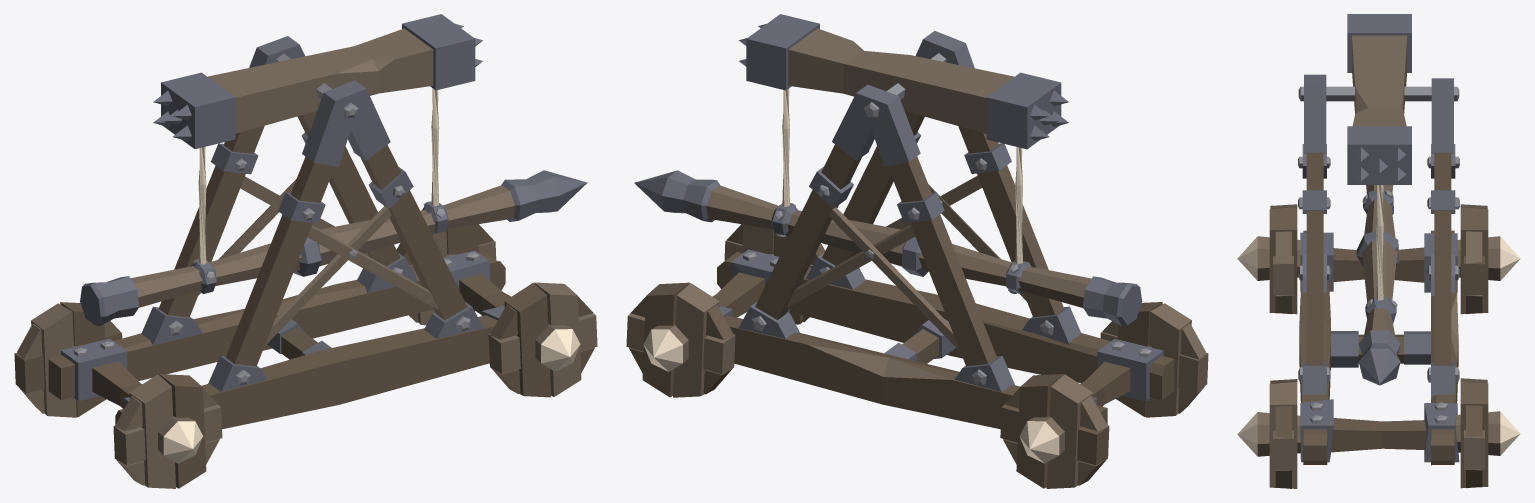
Rendered from _BATTERING_RAM.fbx.
3 renders of one model, left to right at view 1: azimuth 30°, elevation 25°; view 2: azimuth 150°, elevation 25°; view 3: azimuth 270°, elevation 25°, orthographic. The views are drawn at different scales.
Parts seen in each view (by area): view 1: BATTERING_RAM; view 2: BATTERING_RAM; view 3: BATTERING_RAM.
Boxes of the visible parts, x1=… form: BATTERING_RAM: x1=14, y1=14, x2=597, y2=488; BATTERING_RAM: x1=626, y1=14, x2=1208, y2=488; BATTERING_RAM: x1=1237, y1=14, x2=1520, y2=488.
Size of the model in its own units: 531 by 332 by 263.
